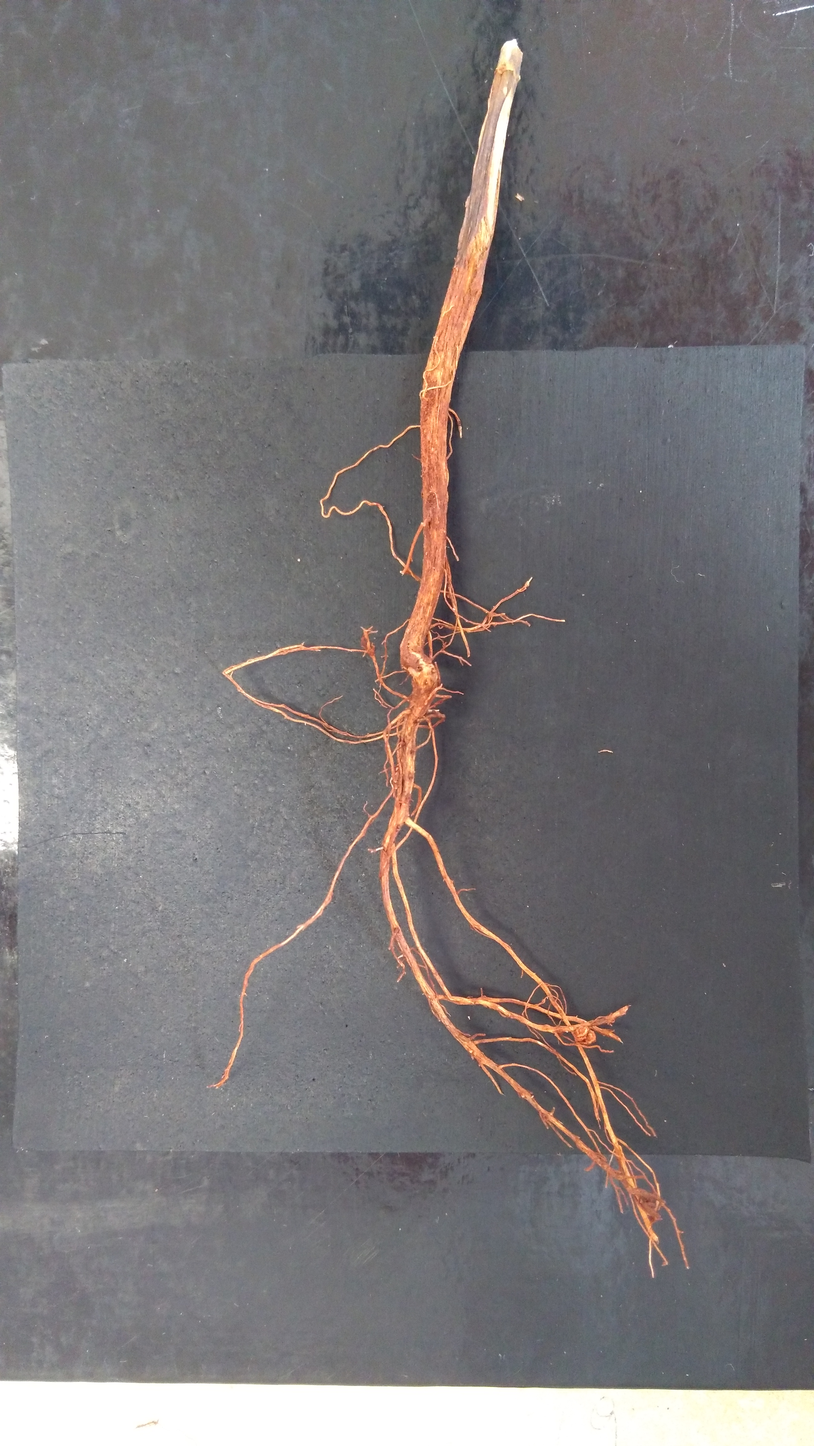nodule: (574, 1025, 596, 1045)
